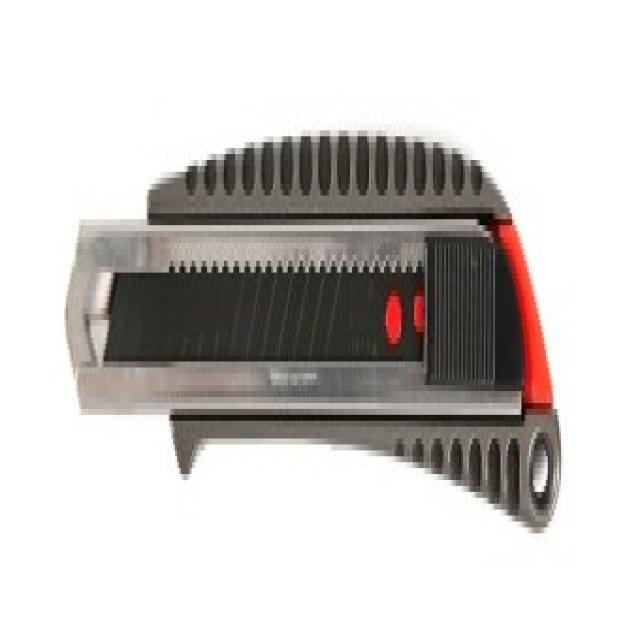cutter: (48, 90, 570, 570)
